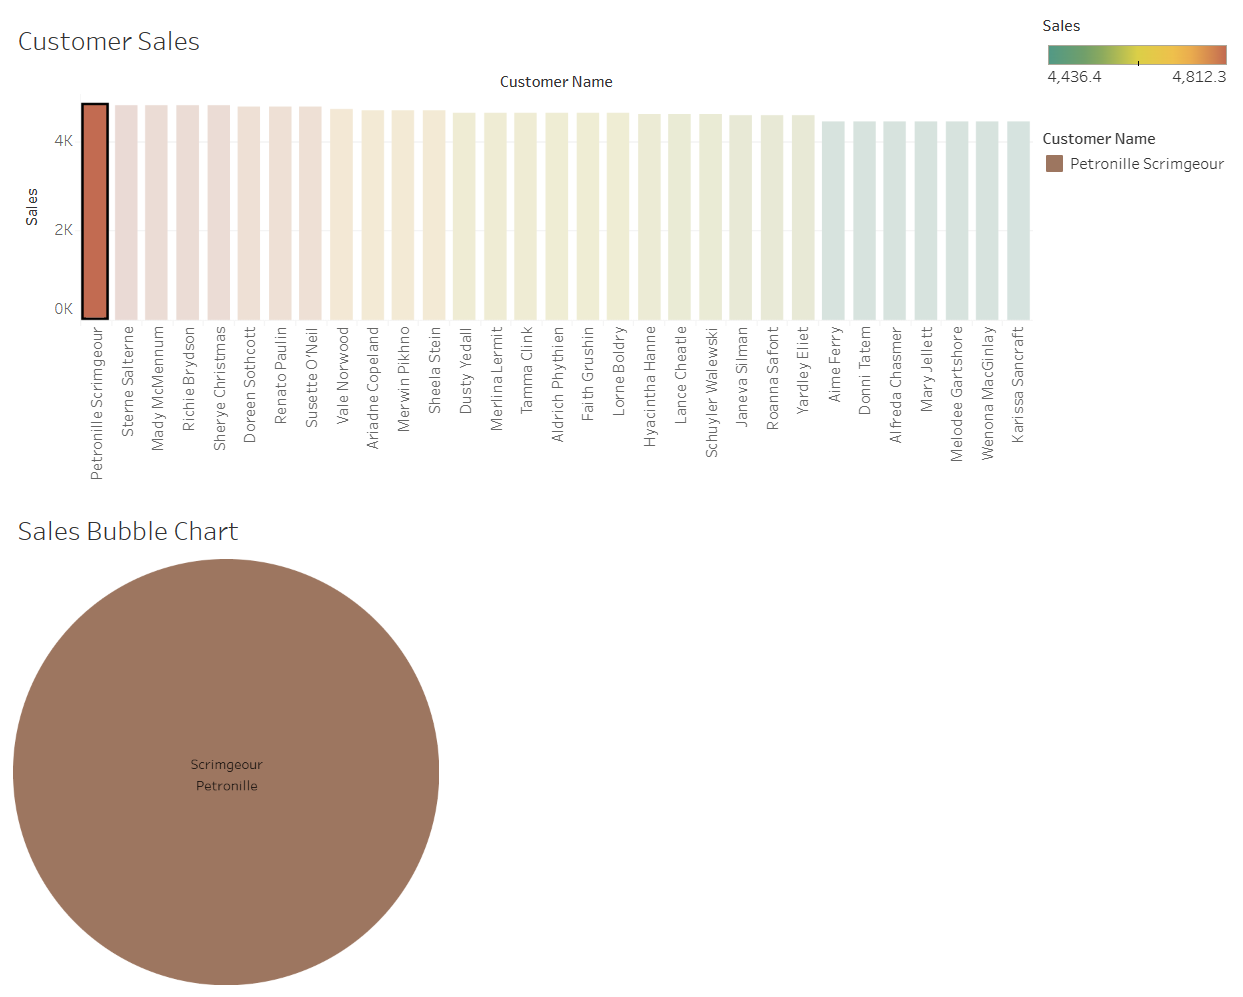

This screenshot's page, from the dashboard's own definition file:
{"tool":"tableau","page":{"name":"Dashboard 1","canvas":[1000,800],"ordinal":0},"visuals":[{"type":"worksheet","title":"Customer Sales","mark":"Automatic","rows":["Sales"],"cols":["Customer Name"],"box":[8,8,824,392]},{"type":"legend","title":"Customer Sales","param":"[federated.10stb921cw66d418hgzs21unqdcp].[sum:Sales:qk]","box":[832,8,160,68]},{"type":"legend","title":"Sales Bubble Chart","param":"[federated.10stb921cw66d418hgzs21unqdcp].[sum:Sales:qk]","box":[832,76,160,22]},{"type":"legend","title":"Sales Bubble Chart","param":"[federated.10stb921cw66d418hgzs21unqdcp].[none:Customer Name:nk]","box":[832,98,160,647]},{"type":"worksheet","title":"Sales Bubble Chart","mark":"Circle","box":[8,400,824,392]}]}

Visuals, with their boxes in screenshot pixels (x1, y1, x2, y2), scaled from the page's 1000x800 canvas onto the 1243x997 screenshot:
"Customer Sales" worksheet: {"left": 10, "top": 10, "right": 1034, "bottom": 499}
"Customer Sales" legend: {"left": 1034, "top": 10, "right": 1233, "bottom": 95}
"Sales Bubble Chart" legend: {"left": 1034, "top": 95, "right": 1233, "bottom": 122}
"Sales Bubble Chart" legend: {"left": 1034, "top": 122, "right": 1233, "bottom": 928}
"Sales Bubble Chart" worksheet (Circle marks): {"left": 10, "top": 499, "right": 1034, "bottom": 987}
